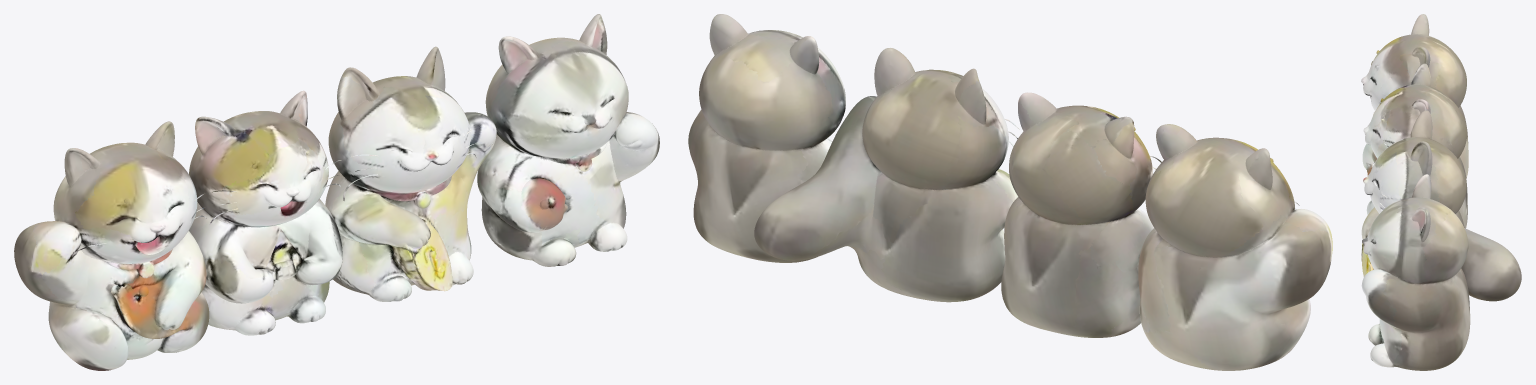
The model's file is Under_the_Red_Sun-optimized.glb.
The picture shows the model from 3 angles, left to right: view 1: azimuth 30°, elevation 25°; view 2: azimuth 150°, elevation 25°; view 3: azimuth 270°, elevation 25°; orthographic projection. The views are drawn at different scales.
Visible parts, largest first — view 1: model; view 2: model; view 3: model.
Part boxes in pixels (left/top/right/bottom): model: left=14, top=14, right=659, bottom=370; model: left=688, top=14, right=1332, bottom=370; model: left=1361, top=14, right=1521, bottom=370.
Size of the model in its own units: 1.75 by 0.6003 by 0.5176.
1 material, 1 textured.
